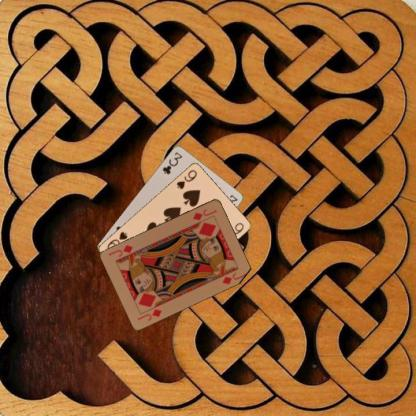3c: (159, 149, 184, 176)
9s: (174, 167, 198, 190)
Jd: (135, 306, 163, 322), (190, 206, 218, 221)
